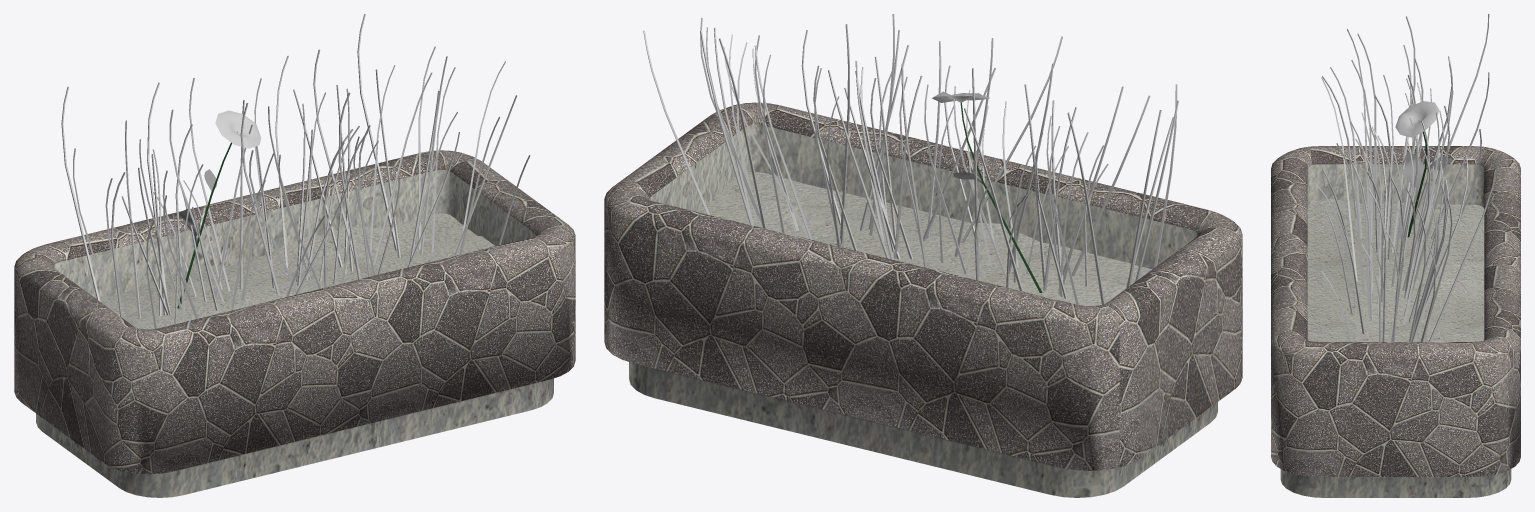
File: FlowerBed 1.fbx
3 renders of one model, left to right at view 1: azimuth 30°, elevation 25°; view 2: azimuth 150°, elevation 25°; view 3: azimuth 270°, elevation 25°, orthographic. The views are drawn at different scales.
Parts seen in each view (by area): view 1: FlowerBed, ground, Petals, stem_64, stem_1; view 2: FlowerBed, ground, stem_56; view 3: FlowerBed, ground, Petals, stem_64, Leaf_big, stem_56, stem_47, stem_25, stem_60, stem_7, stem_55, stem_12 (+27 smaller).
Part boxes in pixels (x1,y1,x2,y2): FlowerBed: [14, 150, 575, 497]; ground: [94, 213, 495, 329]; Petals: [215, 110, 261, 148]; stem_64: [357, 14, 396, 251]; stem_1: [61, 86, 100, 301]; FlowerBed: [604, 102, 1242, 497]; ground: [695, 171, 1151, 305]; stem_56: [840, 24, 849, 247]; FlowerBed: [1271, 146, 1520, 497]; ground: [1307, 199, 1484, 341]; Petals: [1395, 101, 1439, 137]; stem_64: [1429, 155, 1498, 341]; Leaf_big: [1402, 152, 1423, 201]; stem_56: [1402, 112, 1439, 324]; stem_47: [1321, 77, 1357, 281]; stem_25: [1330, 67, 1362, 238]; stem_60: [1412, 177, 1449, 341]; stem_7: [1357, 33, 1376, 210]; stem_55: [1345, 151, 1369, 316]; stem_12: [1431, 72, 1489, 238].
Size of the model in its own units: 200 by 136 by 100.
